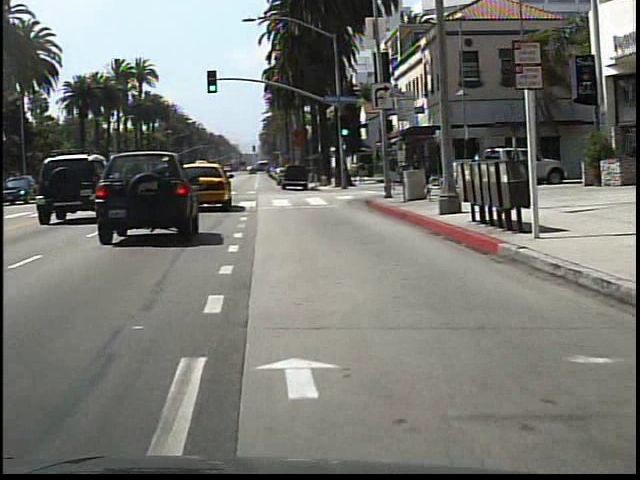person: (388, 151, 404, 194)
